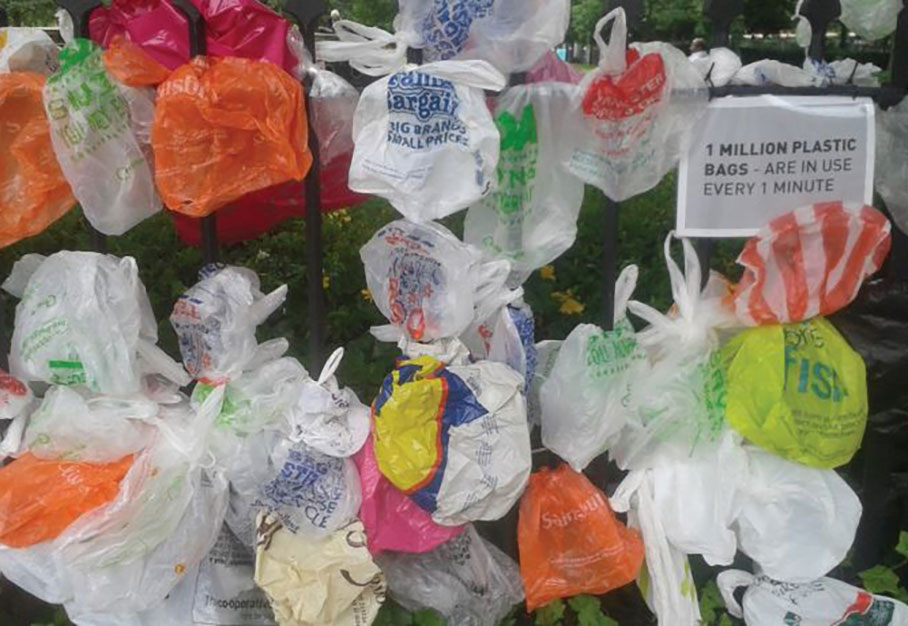plastic_bagwdw: (324, 23, 561, 319), (716, 173, 884, 544), (123, 34, 327, 307), (35, 1, 216, 286), (133, 16, 311, 284), (5, 201, 196, 433), (702, 154, 886, 380), (616, 228, 730, 535), (486, 440, 660, 626), (499, 280, 644, 497), (688, 491, 908, 626), (229, 482, 396, 626), (355, 504, 540, 626)
